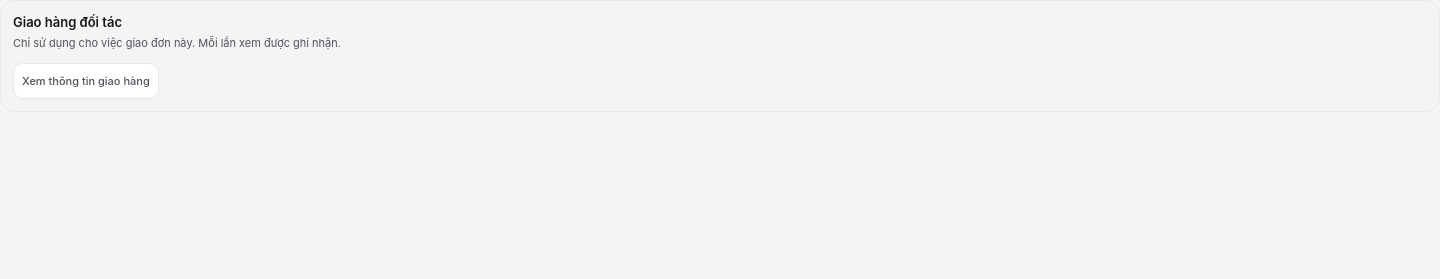
Test: staff partner contact disclosure › loads only after staff clicks and hides plaintext on request
Click the button "Xem thông tin giao hàng": [86, 81] box 13,63 -> 159,99
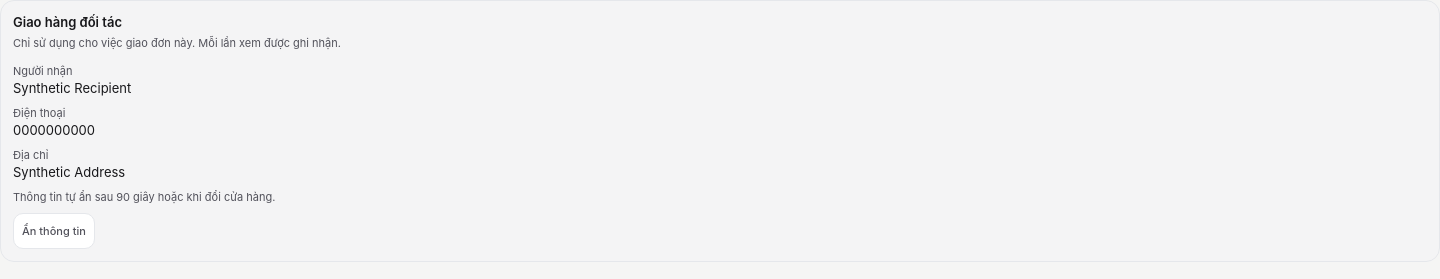
Result: the text "Synthetic Address" is shown at 13,164 -> 125,180
Click the button "Ẩn thông tin": [54, 231] box 13,213 -> 95,249
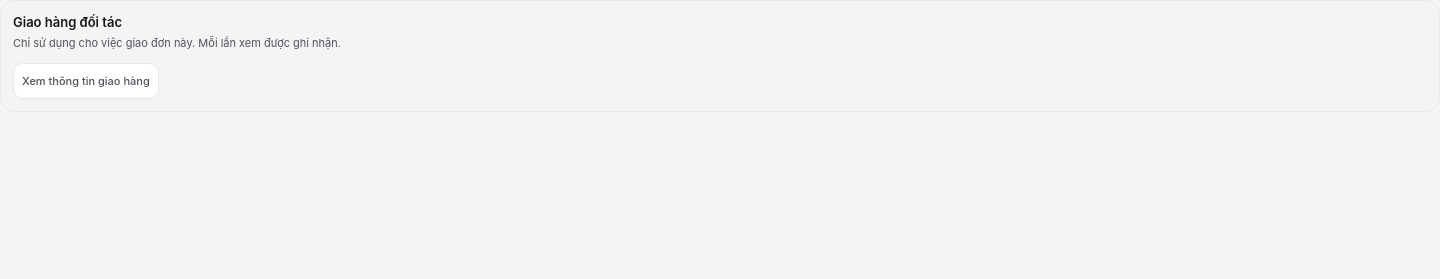
Result: the text "Synthetic Address" is gone
